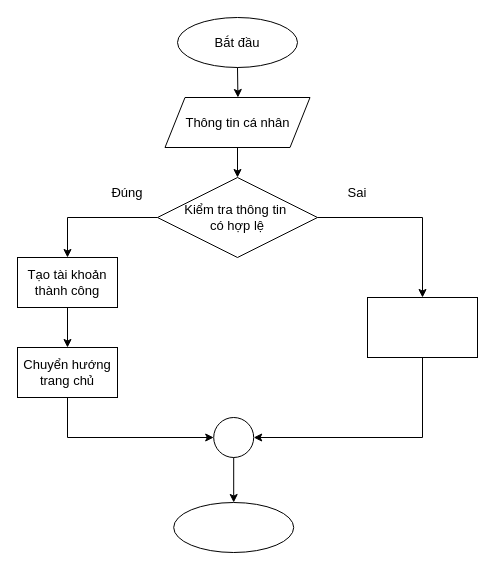
Some shapes in this 495 by 570 pixel diagram are drawn without their labels. The centre of each missing label's shape, as x and y in pixels:
Kết thúc: (x=233, y=527)
Thông báo thông tin không hợp lệ: (x=422, y=327)
